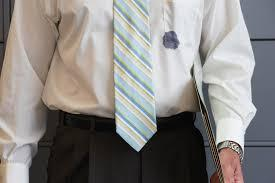ink: (163, 31, 179, 47)
